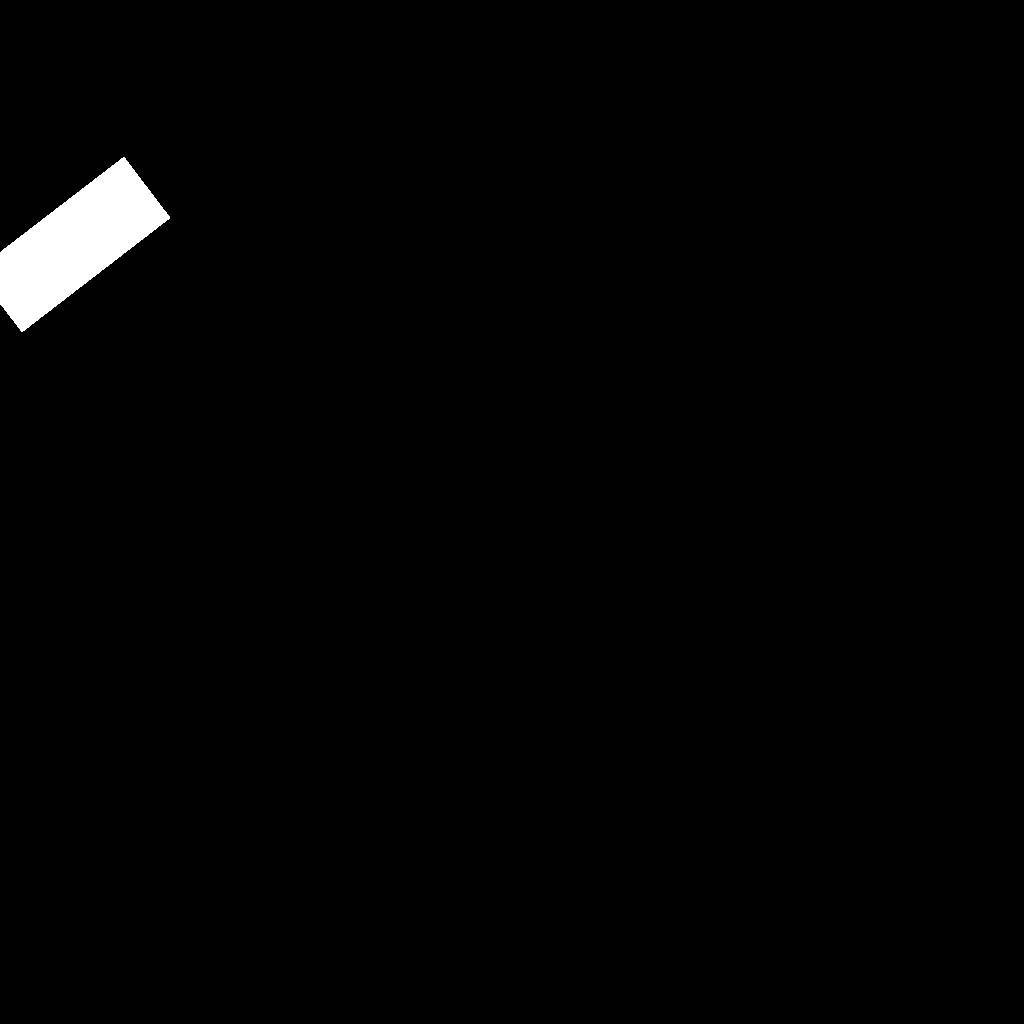building: (0, 157, 171, 333)
